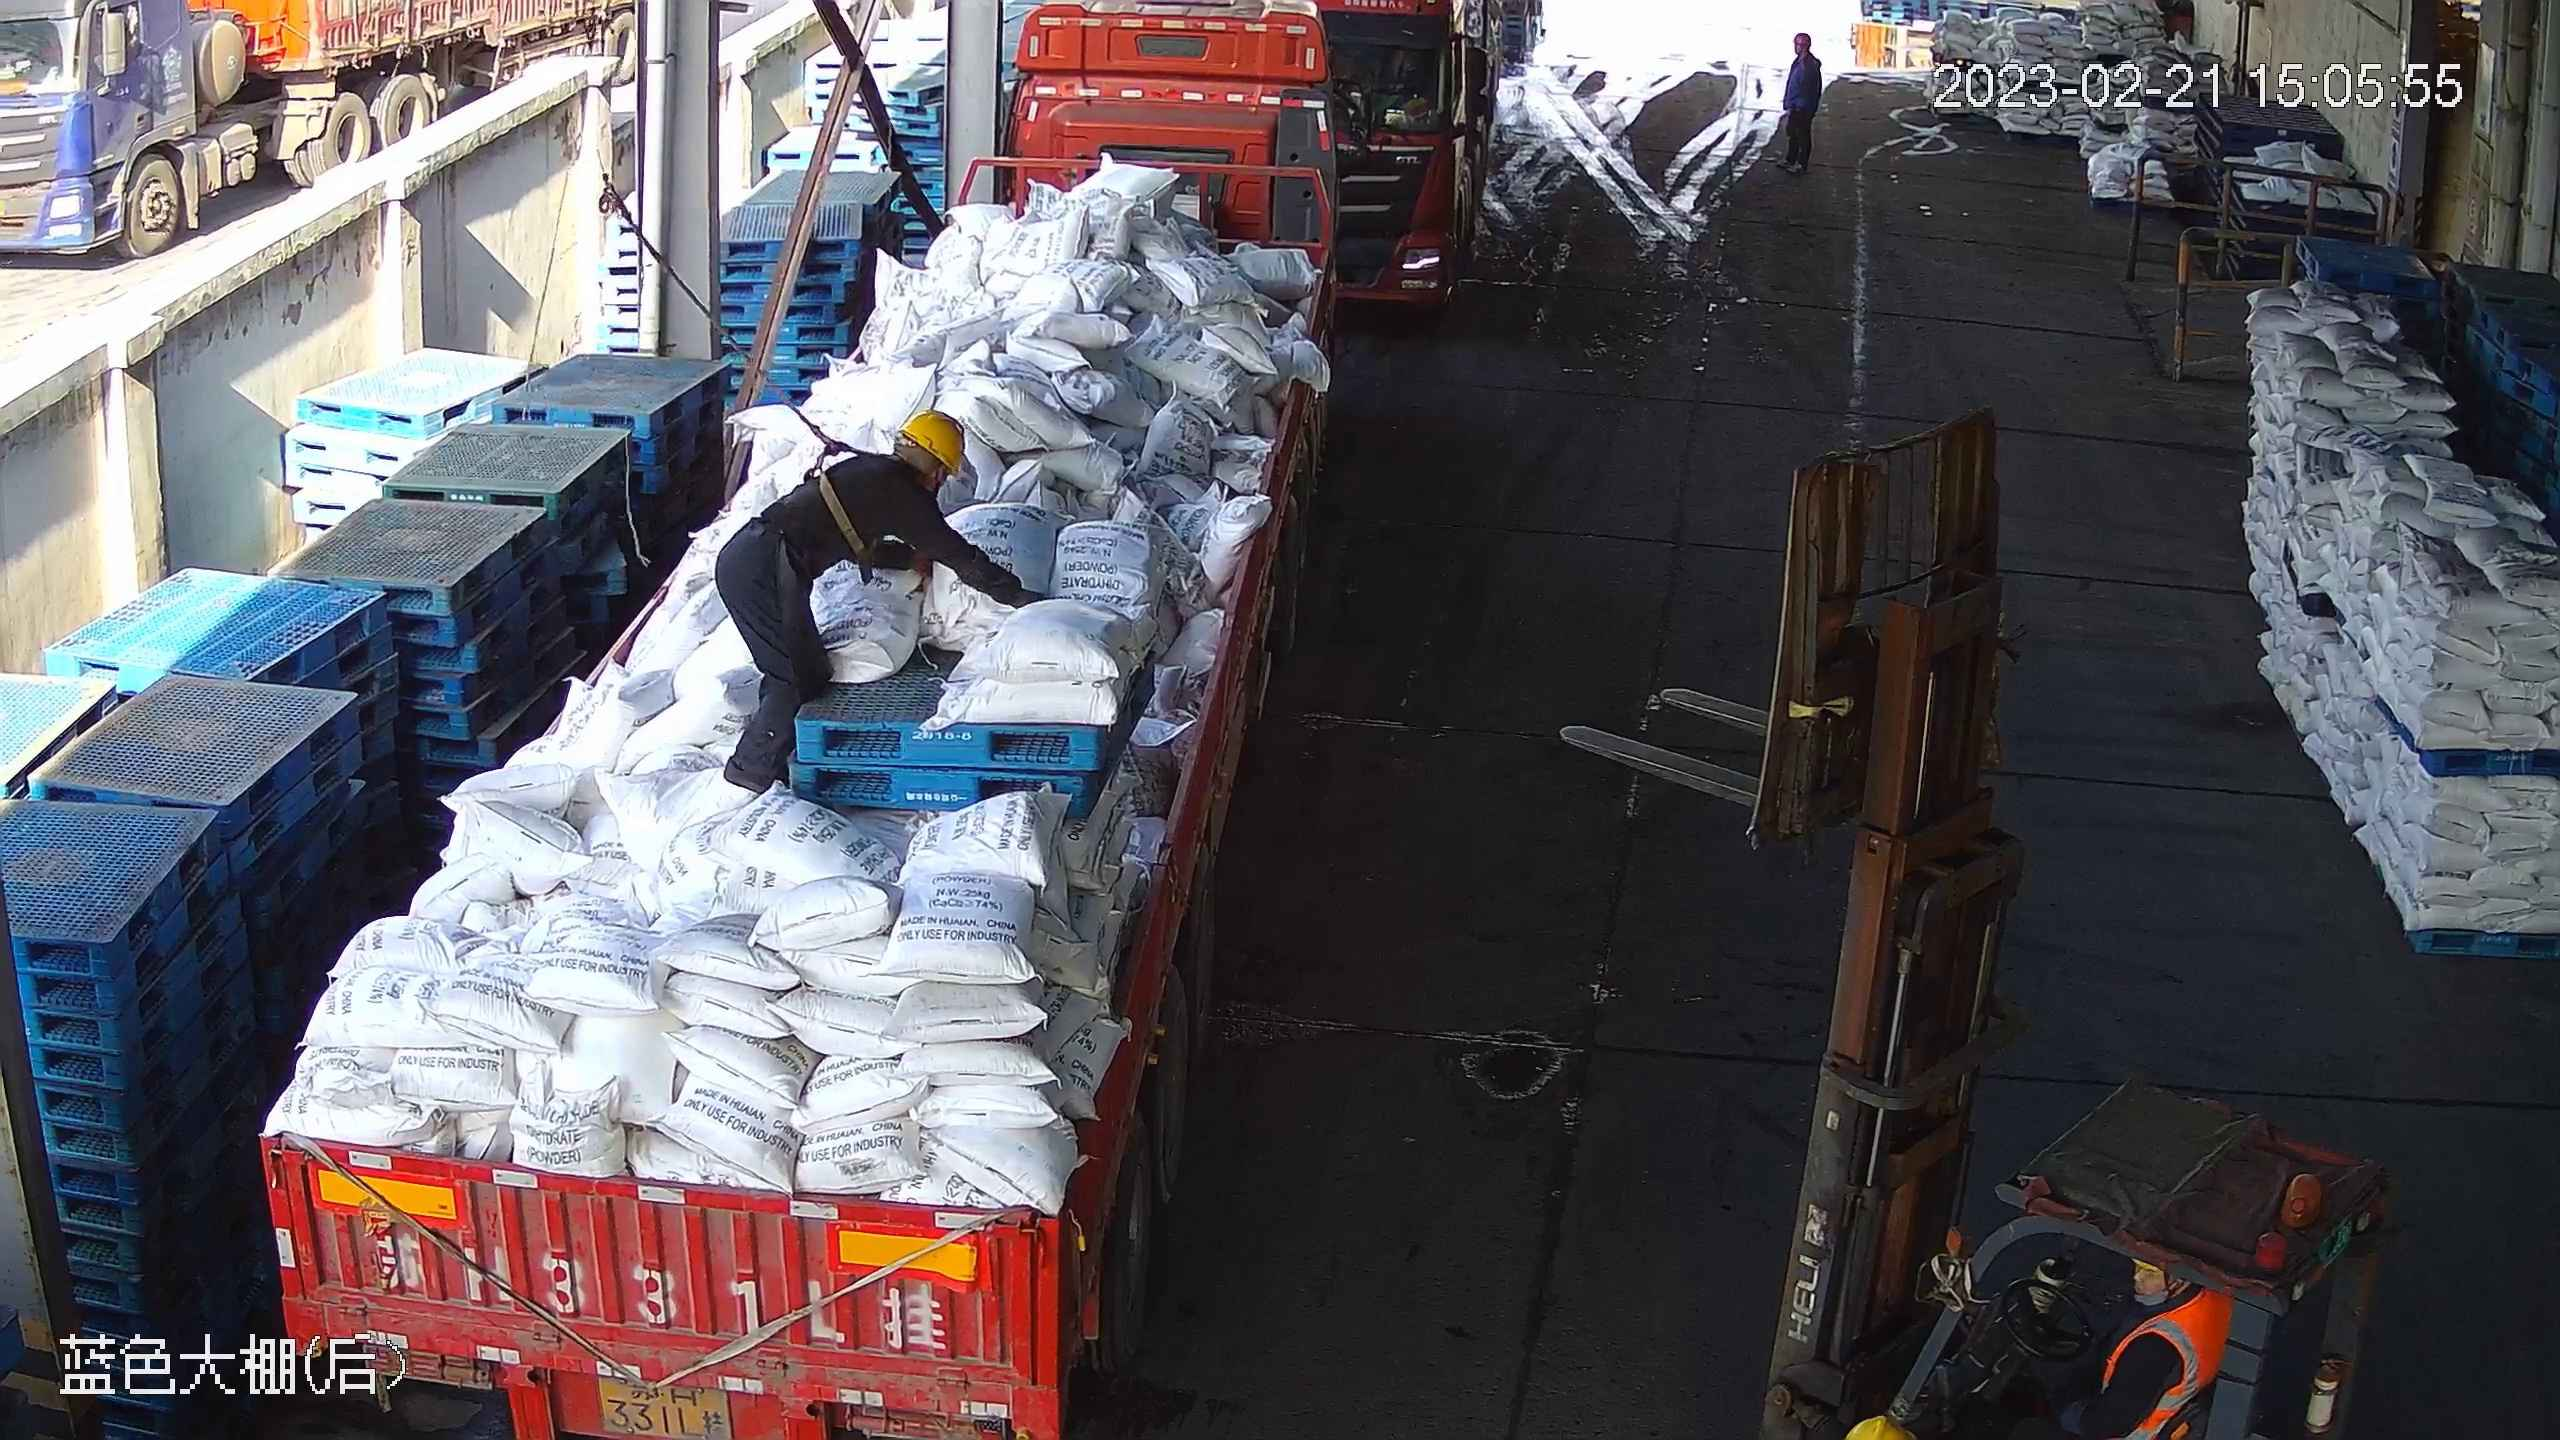belt: (801, 422, 894, 556)
head: (2055, 1256, 2233, 1435), (828, 408, 968, 544), (1788, 30, 1819, 81)
helmet: (899, 411, 963, 469), (1794, 32, 1813, 45)
people: (705, 403, 1040, 800), (1772, 30, 1821, 177)
truck: (254, 1, 1383, 1427), (1325, 1, 1497, 330)
